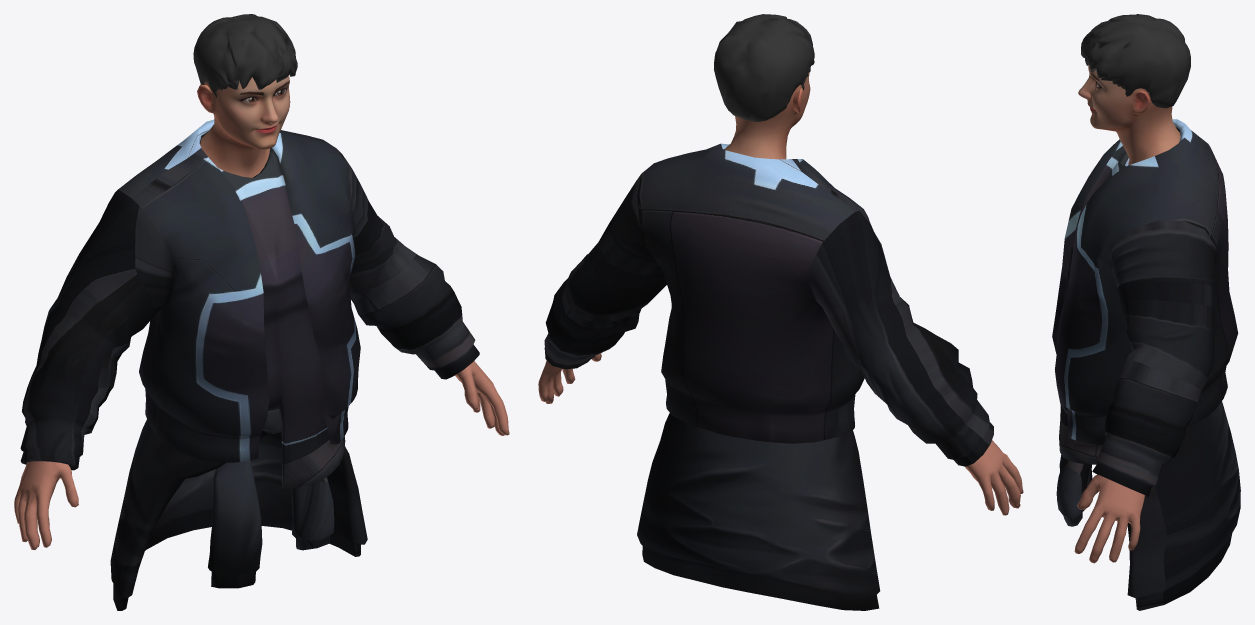
Rendered from ManAvatar_2.fbx.
3 renders of one model, left to right at view 1: azimuth 30°, elevation 25°; view 2: azimuth 150°, elevation 25°; view 3: azimuth 270°, elevation 25°, orthographic. The views are drawn at different scales.
Parts seen in each view (by area): view 1: Upper_Body, Head, Hair, Hands; view 2: Upper_Body, Hair, Hands, Head; view 3: Upper_Body, Hair, Head, Hands.
Boxes of the visible parts, x1=… form: Upper_Body: x1=20, y1=119, x2=479, y2=610; Head: x1=197, y1=75, x2=290, y2=177; Hair: x1=193, y1=14, x2=297, y2=98; Hands: x1=14, y1=361, x2=509, y2=549; Upper_Body: x1=544, y1=143, x2=993, y2=610; Hair: x1=714, y1=14, x2=814, y2=121; Hands: x1=538, y1=353, x2=1023, y2=515; Head: x1=724, y1=72, x2=810, y2=159; Upper_Body: x1=1052, y1=119, x2=1240, y2=610; Hair: x1=1081, y1=14, x2=1190, y2=108; Head: x1=1078, y1=65, x2=1180, y2=164; Hands: x1=1074, y1=474, x2=1145, y2=563.
Bounding box in the file's own units: 106 × 120 × 38.03.
Materials: 5 (5 with a texture image).
